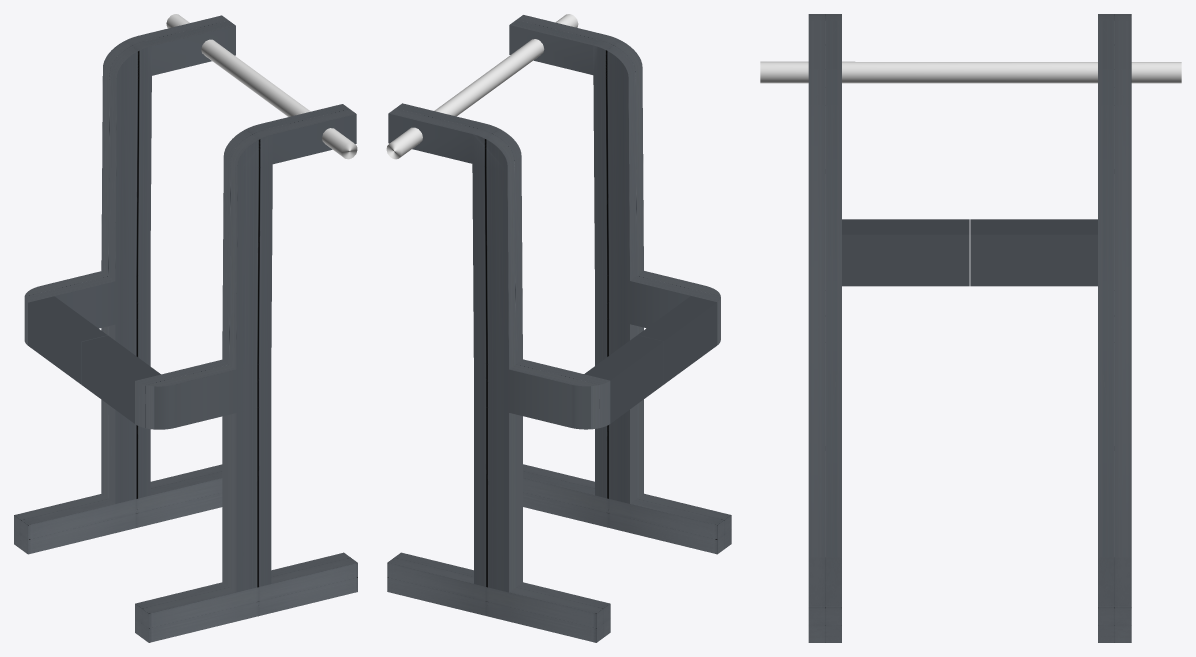
Rendered from Bara de tractiuni.fbx.
3 views of the same model, side by side, from view 1: azimuth 30°, elevation 25°; view 2: azimuth 150°, elevation 25°; view 3: azimuth 270°, elevation 25° (orthographic). The views are drawn at different scales.
Parts seen in each view (by area): view 1: Cube, Cube.001, Cylinder; view 2: Cube.001, Cube, Cylinder; view 3: Cube, Cube.001, Cylinder.
Part boxes in pixels (left/top/right/bottom): Cube: left=81, top=104, right=357, bottom=642; Cube.001: left=14, top=15, right=235, bottom=554; Cylinder: left=166, top=14, right=357, bottom=159; Cube.001: left=387, top=103, right=663, bottom=642; Cube: left=509, top=15, right=731, bottom=554; Cylinder: left=386, top=14, right=578, bottom=159; Cube: left=808, top=14, right=969, bottom=642; Cube.001: left=970, top=14, right=1131, bottom=642; Cylinder: left=760, top=61, right=1181, bottom=83.
Bounding box in the file's own units: 200 × 437 × 291.
Materials: 2 (1 with a texture image).
